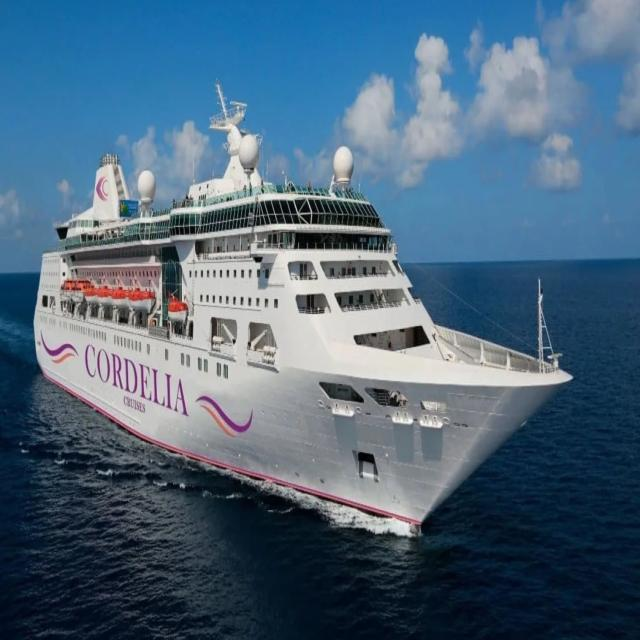passenger ship: (24, 93, 564, 514)
